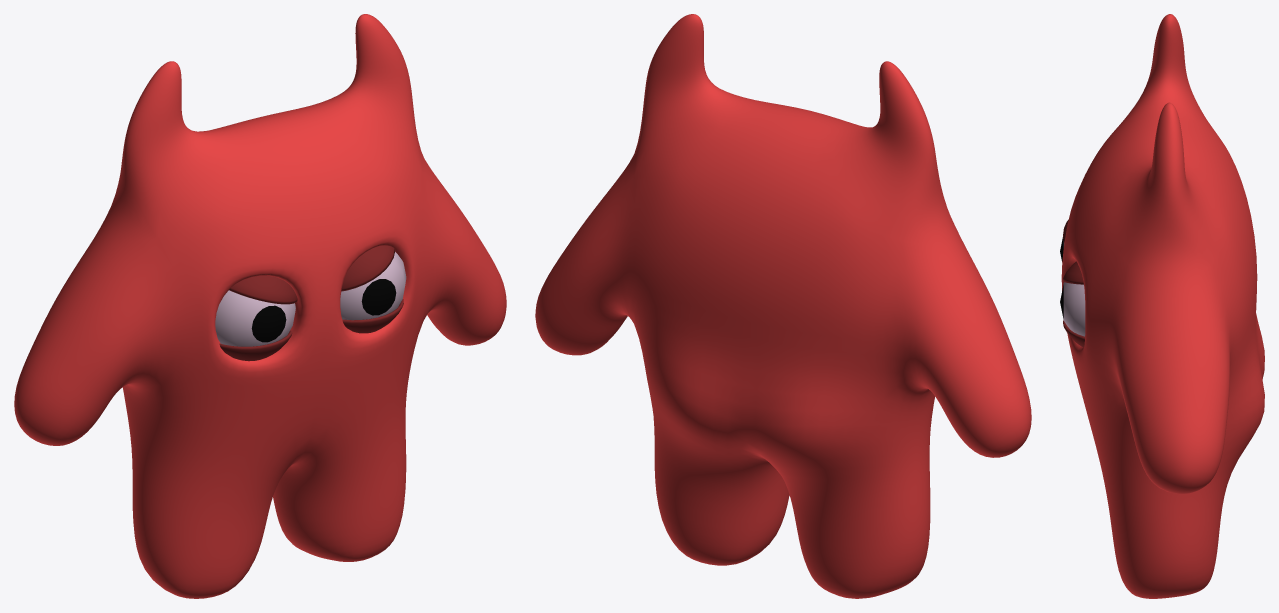
The model's file is demon.glb.
3 views of the same model, side by side, from view 1: azimuth 30°, elevation 25°; view 2: azimuth 150°, elevation 25°; view 3: azimuth 270°, elevation 25° (orthographic). The views are drawn at different scales.
Parts seen in each view (by area): view 1: Sphere.002; view 2: Sphere.002; view 3: Sphere.002.
Boxes of the visible parts, left/top/right/bottom form: Sphere.002: left=14, top=14, right=506, bottom=598; Sphere.002: left=535, top=14, right=1031, bottom=598; Sphere.002: left=1060, top=14, right=1264, bottom=598.
Size of the model in its own units: 2.34 by 2.44 by 0.9138.
